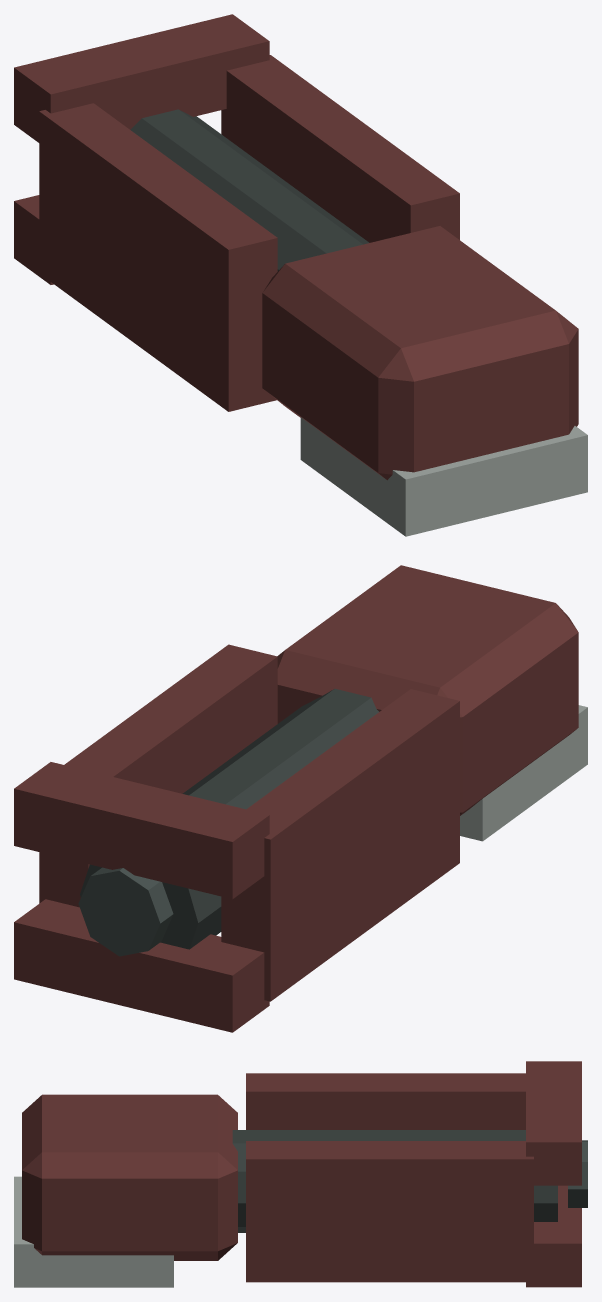
Rendered from tesseron_weapon.obj.
3 views of the same model, one above another, from view 1: azimuth 30°, elevation 25°; view 2: azimuth 150°, elevation 25°; view 3: azimuth 270°, elevation 25° (orthographic). The views are drawn at different scales.
Parts seen in each view (by area): view 1: tesseron_weapon; view 2: tesseron_weapon; view 3: tesseron_weapon.
Boxes of the visible parts, bbox=[...] form: tesseron_weapon: bbox=[14, 14, 587, 536]; tesseron_weapon: bbox=[14, 565, 587, 1032]; tesseron_weapon: bbox=[14, 1061, 587, 1287].
Bounding box in the file's own units: 0.254 × 0.21 × 0.7175.
